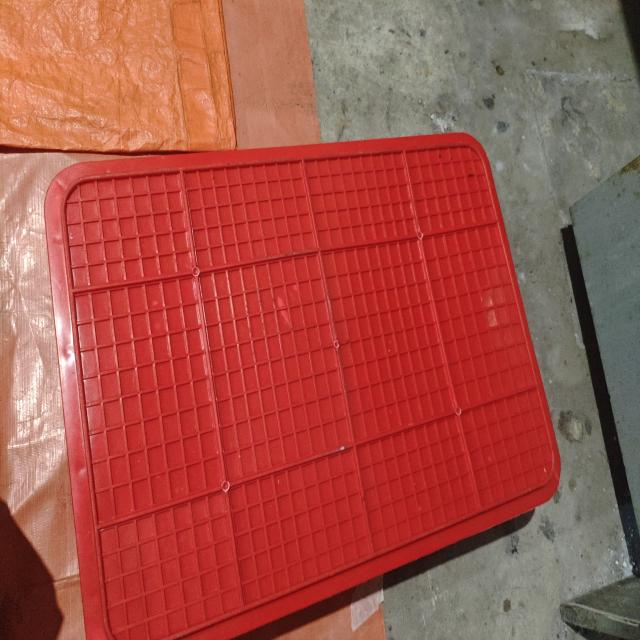red plastic box: (44, 132, 561, 640)
